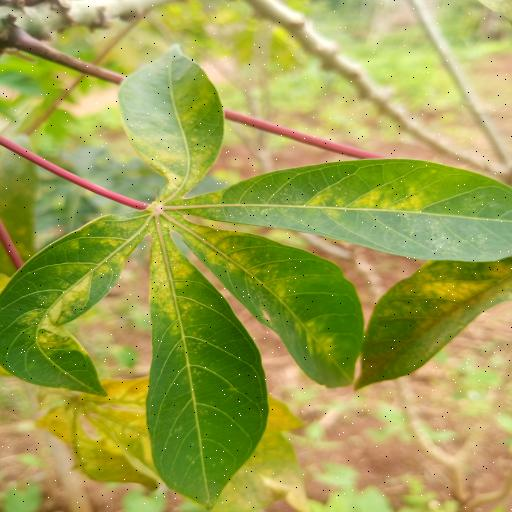Cassava_Mosaic: (3, 44, 512, 506)
